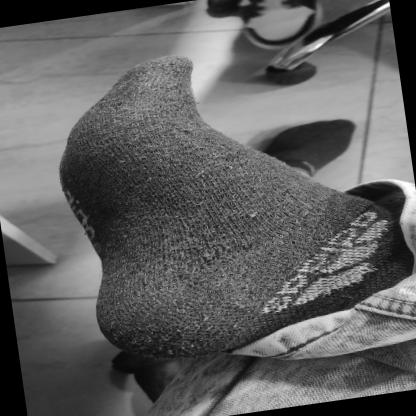ankle: (312, 237, 329, 246)
heel: (156, 347, 173, 357)
pinky: (106, 98, 116, 103)
right_foot: (46, 34, 361, 372)
toe: (158, 65, 171, 75)
